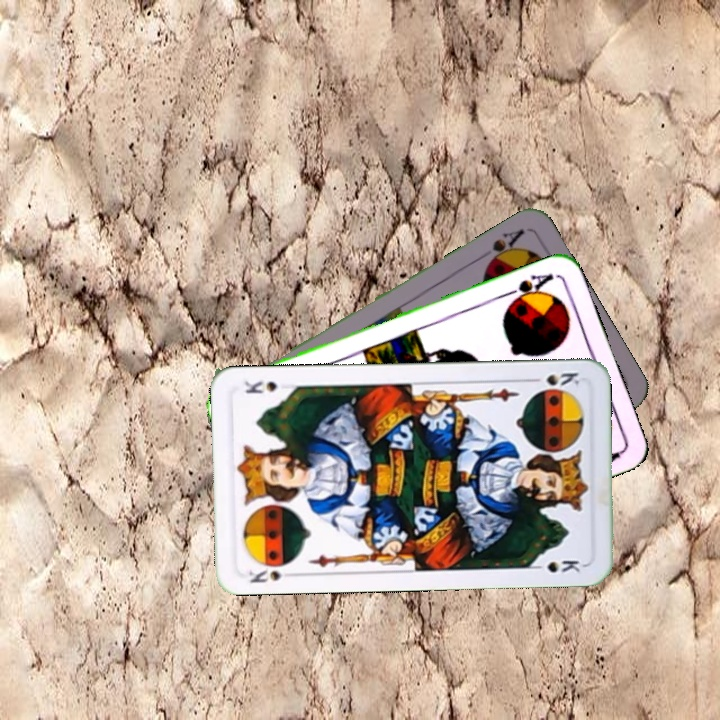SA: (500, 269, 557, 308), (481, 224, 527, 271)
SK: (525, 368, 582, 389), (244, 565, 284, 586)
